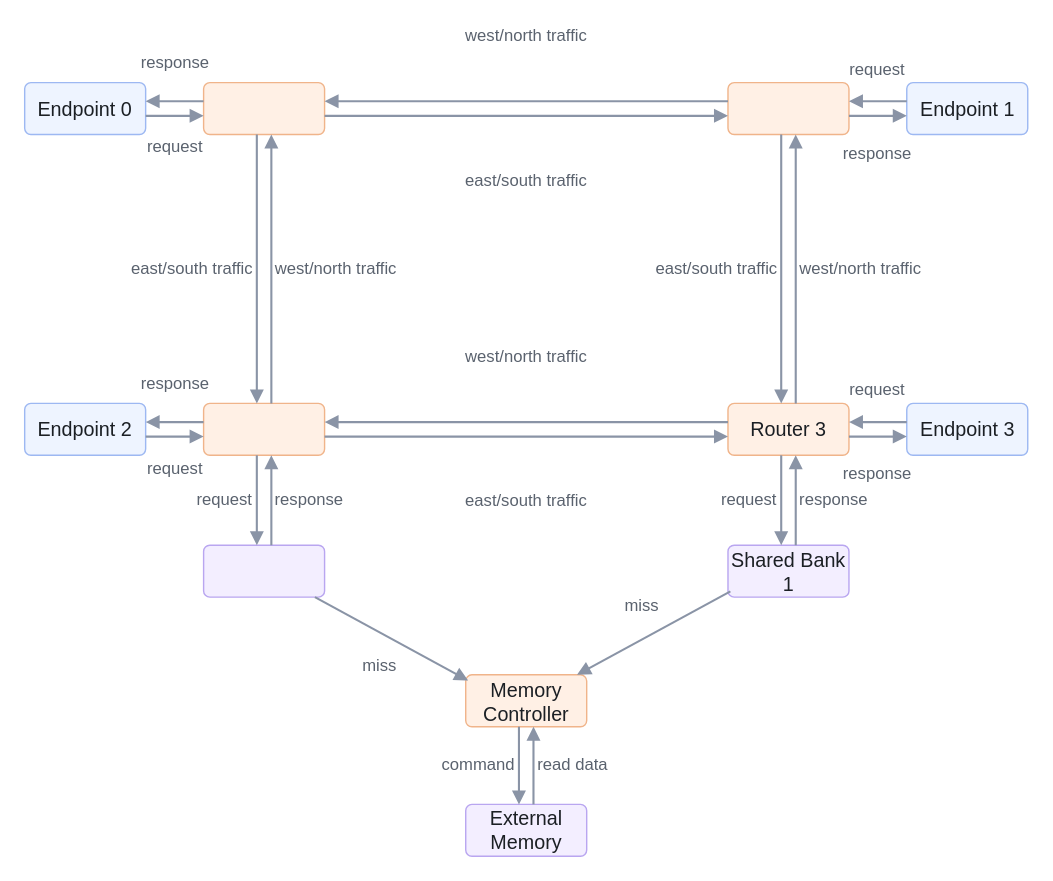
The diagram is 1053 pixels wide and 881 high, and some of its shapes have lost their labels. The centre of each missing label's shape, as x and y in pixels:
Router 0: the point at 263,108
Router 1: the point at 788,108
Router 2: the point at 263,428
Shared Bank 0: the point at 263,570
